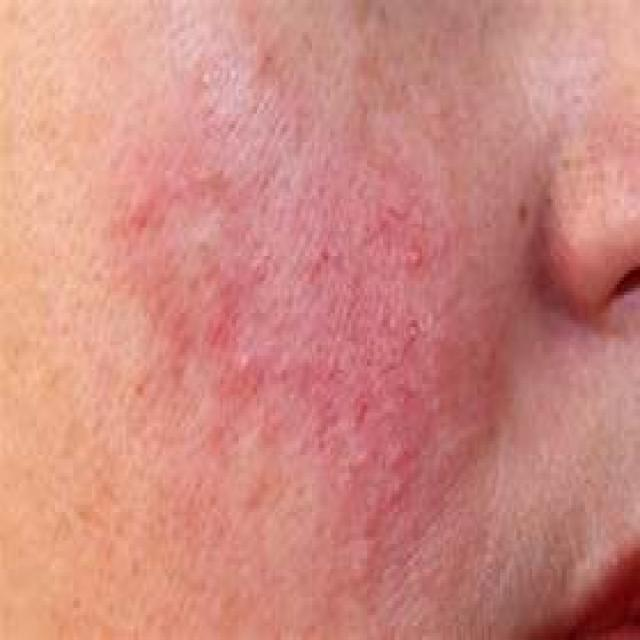Rosacea: (174, 146, 522, 565)
